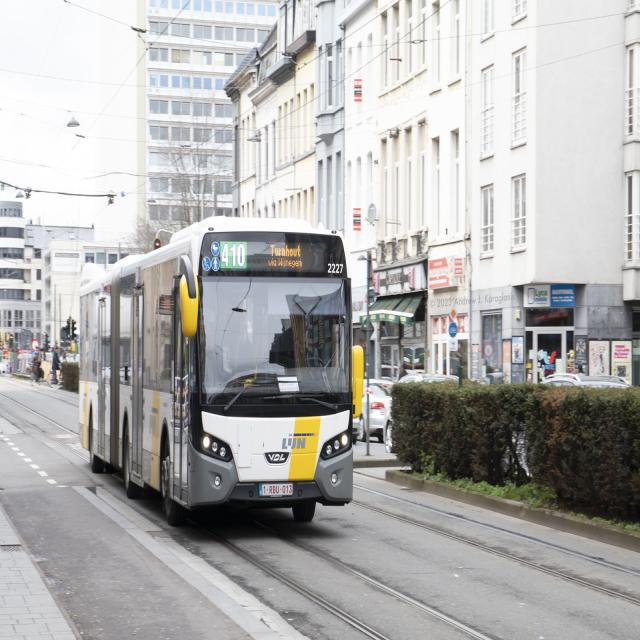bus-number: (220, 240, 248, 270)
